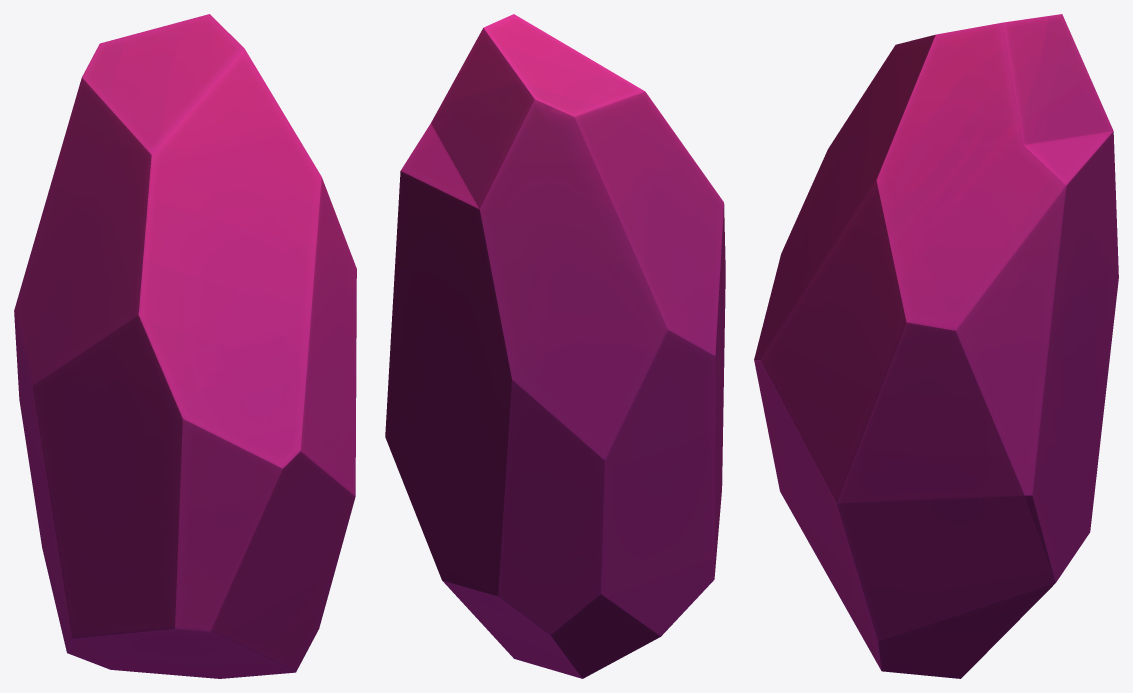
Rendered from Crystal5.fbx.
3 renders of one model, left to right at view 1: azimuth 30°, elevation 25°; view 2: azimuth 150°, elevation 25°; view 3: azimuth 270°, elevation 25°, orthographic. The views are drawn at different scales.
Parts seen in each view (by area): view 1: Crystal5; view 2: Crystal5; view 3: Crystal5.
Part boxes in pixels (x1,y1,x2,y2): Crystal5: [14, 14, 356, 678]; Crystal5: [385, 14, 725, 678]; Crystal5: [754, 14, 1118, 678].
Bounding box in the file's own units: 145 × 290 × 145.
1 material, 1 textured.
